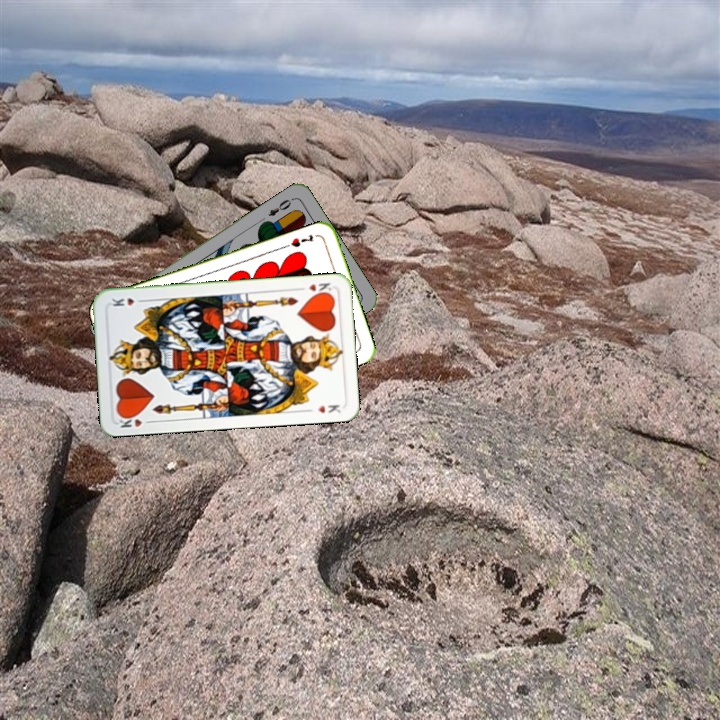EO: (264, 194, 296, 219)
H7: (287, 230, 316, 250)
HK: (114, 410, 155, 430), (295, 279, 335, 298)
